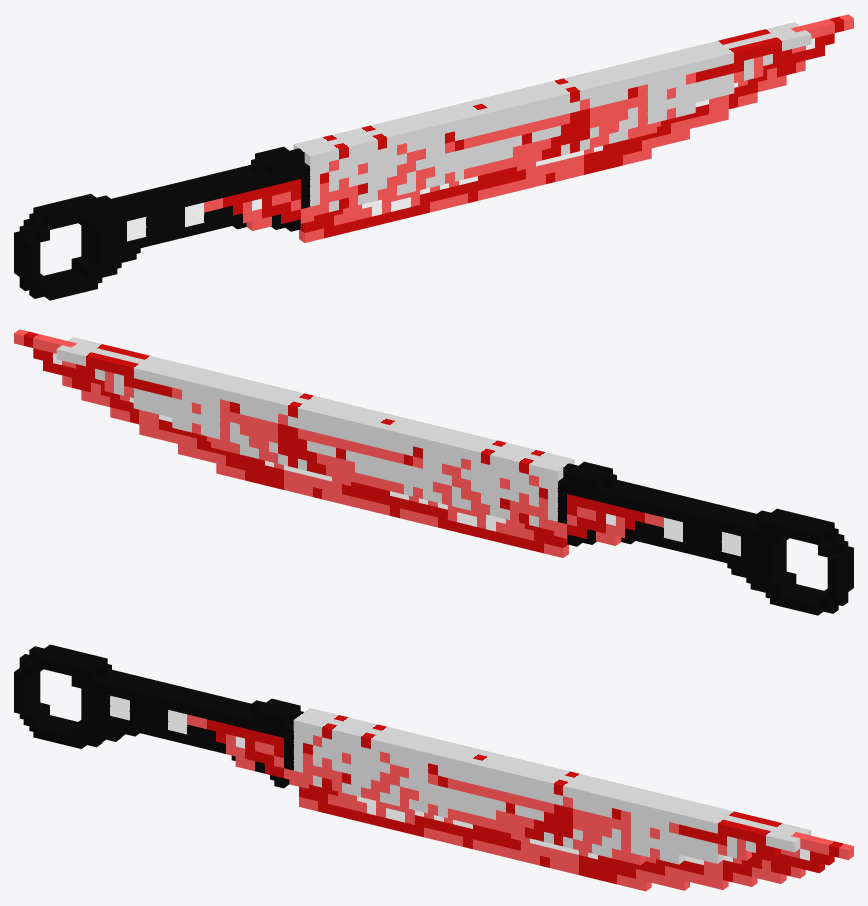
3 views of the same model, one above another, from view 1: azimuth 30°, elevation 25°; view 2: azimuth 150°, elevation 25°; view 3: azimuth 330°, elevation 25° (orthographic).
Visible parts, largest first — view 1: Object; view 2: Object; view 3: Object.
Boxes of the visible parts, <box> form: Object: <box>14,14,853,300</box>; Object: <box>14,329,853,615</box>; Object: <box>14,644,853,891</box>.
Bounding box in the file's own units: 86 × 9 × 3.
Materials: 1 (1 with a texture image).
